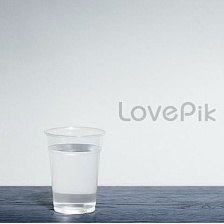glass: (38, 120, 116, 220)
